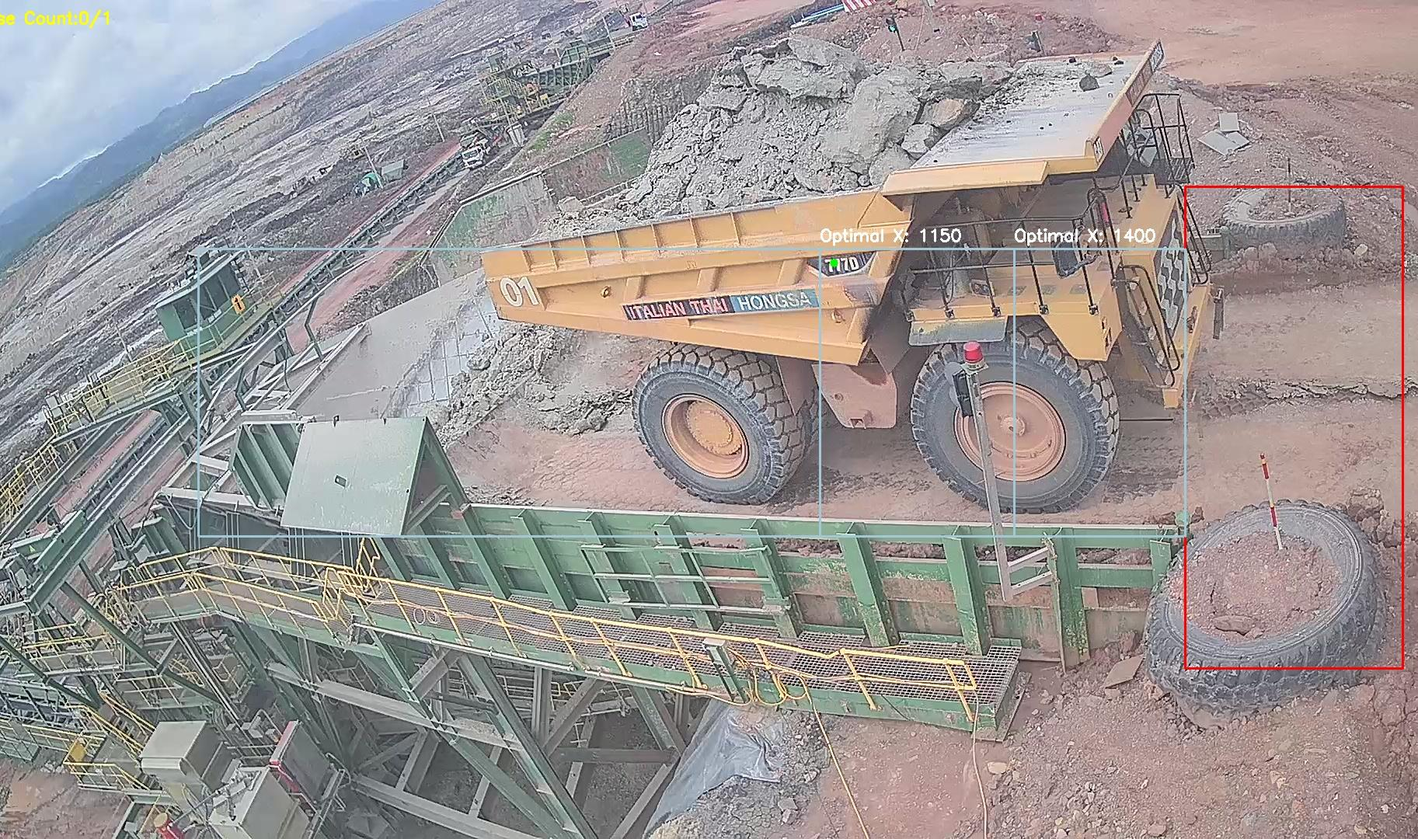company: (609, 286, 825, 326)
full_load: (659, 31, 911, 210)
mining_truck: (460, 19, 1232, 512)
tail_number: (488, 266, 557, 320)
truck_size: (803, 246, 882, 281)
